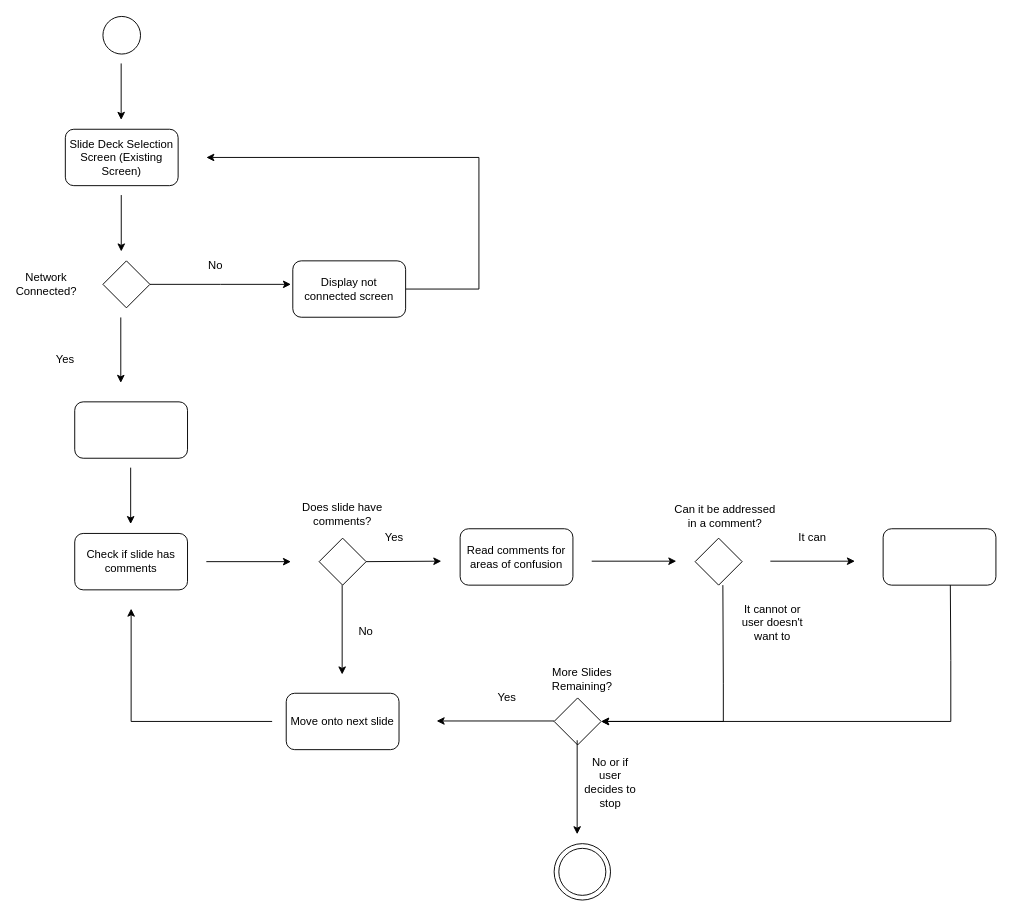
Some shapes in this 1012 by 917 pixel diagram are drawn without their labels. Here are the shapes that lost their labels. From the top down, the box of each, then its label:
(74, 401, 188, 458): Clicks the lecture they wish to open
(882, 528, 996, 585): Append comment to clear confusion
